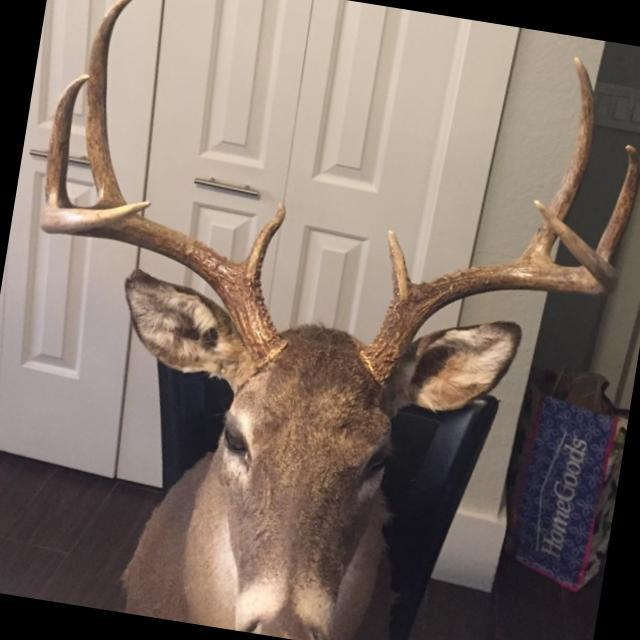L-F: (359, 202, 615, 382)
L-G1: (388, 229, 410, 300)
L-G3: (597, 145, 640, 263)
R-F: (41, 203, 280, 360)
R-G1: (246, 204, 286, 288)
R-G2: (86, 0, 133, 208)
R-G3: (46, 75, 88, 208)
